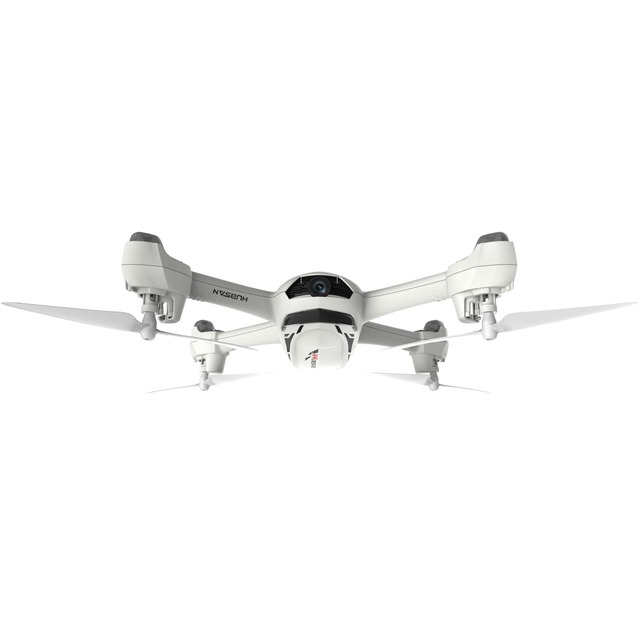drone: (0, 232, 604, 398)
